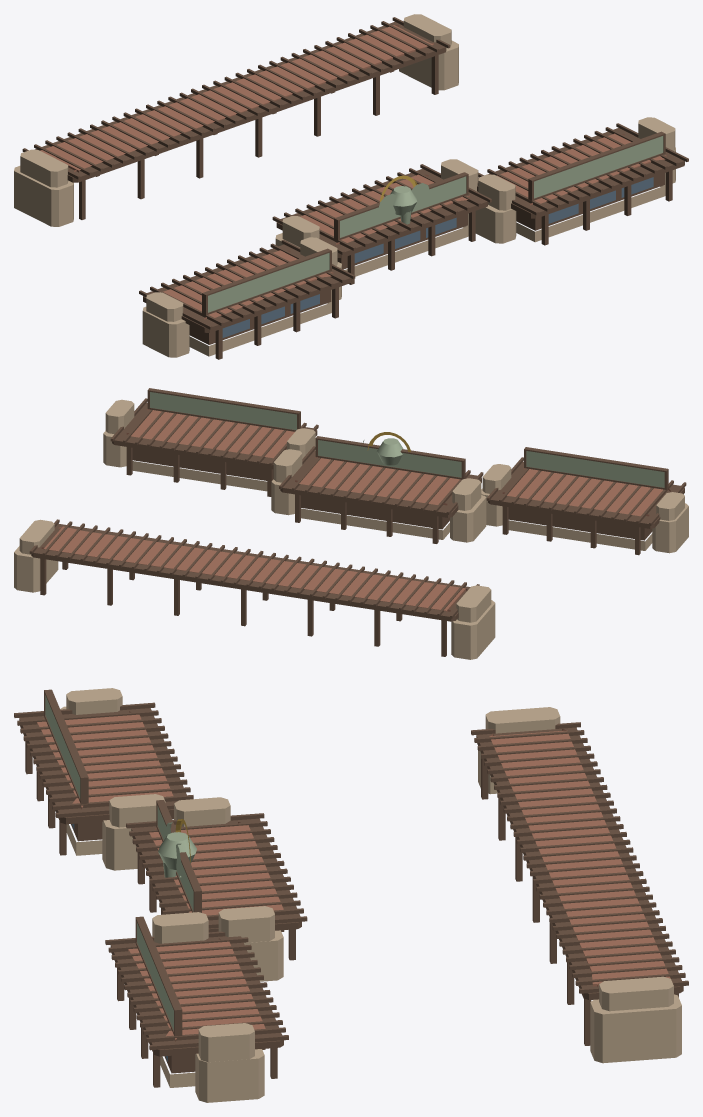
3 renders of one model, top to bottom at view 1: azimuth 30°, elevation 25°; view 2: azimuth 150°, elevation 25°; view 3: azimuth 270°, elevation 25°, orthographic. The views are drawn at different scales.
Visible parts, largest first — view 1: disneys-animal-kingdom-entrance-walt-disney-world; view 2: disneys-animal-kingdom-entrance-walt-disney-world; view 3: disneys-animal-kingdom-entrance-walt-disney-world.
Part boxes in pixels (box(x1,y1,x2,y2)): disneys-animal-kingdom-entrance-walt-disney-world: box(14, 14, 688, 359); disneys-animal-kingdom-entrance-walt-disney-world: box(14, 388, 688, 659); disneys-animal-kingdom-entrance-walt-disney-world: box(14, 688, 688, 1102).
Size of the model in its own units: 53.21 by 7.05 by 42.5.
